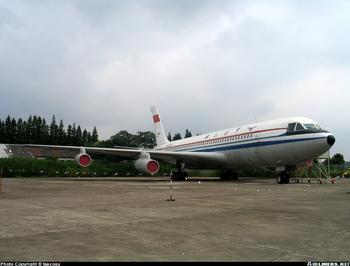airplane: (4, 102, 342, 182)
